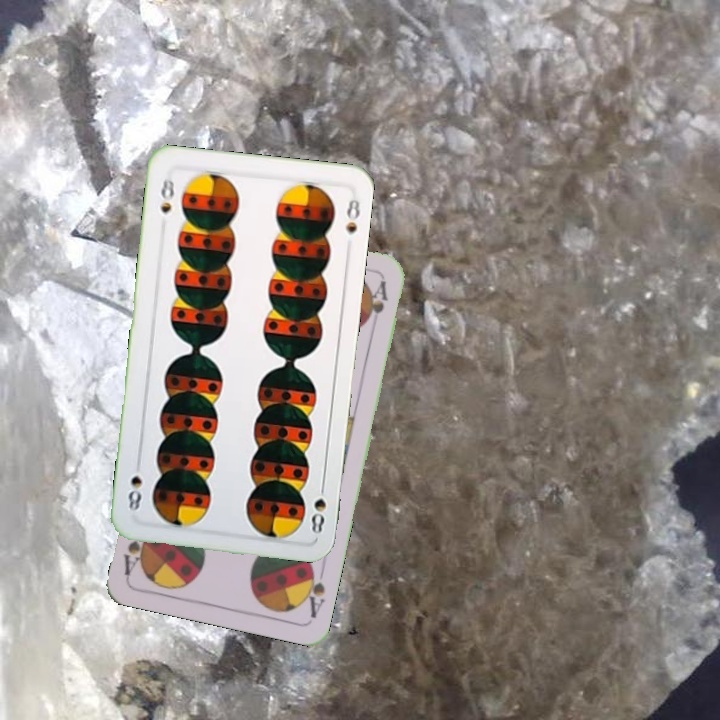S8: (307, 478, 329, 537), (156, 174, 177, 216)
SA: (299, 560, 328, 621)
